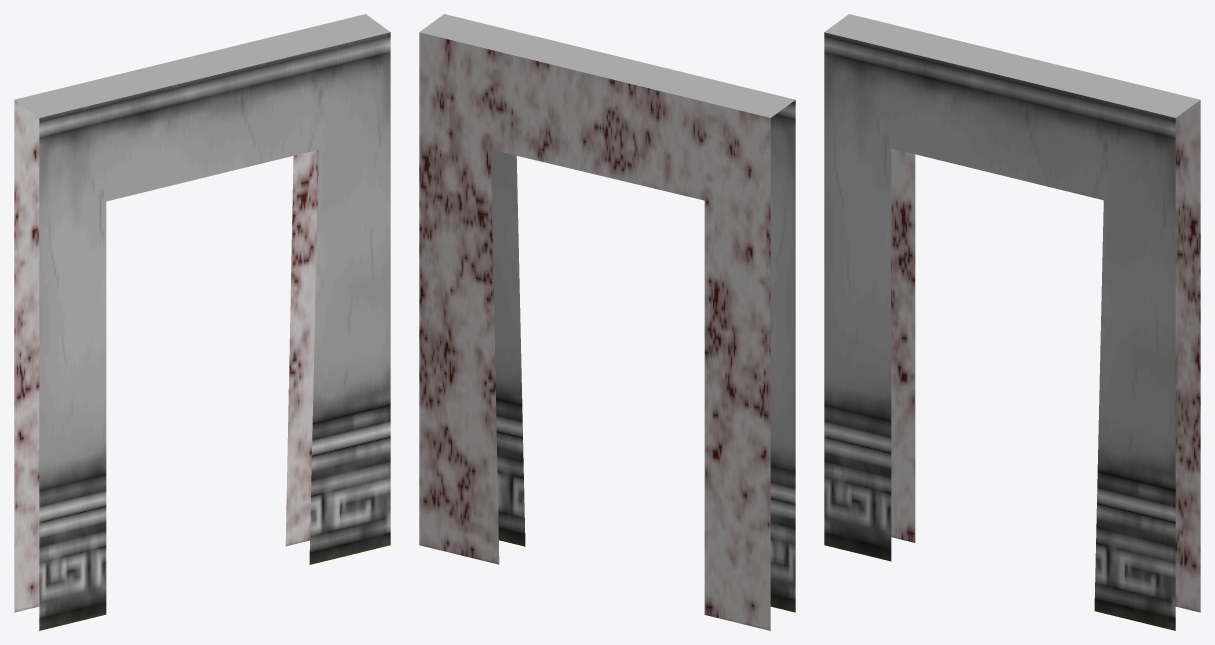
File: W_I3_o [Verziert2_180°-RotesMarmor]_199.glb
The picture shows the model from 3 angles, left to right: view 1: azimuth 30°, elevation 25°; view 2: azimuth 150°, elevation 25°; view 3: azimuth 330°, elevation 25°; orthographic projection.
Parts seen in each view (by area): view 1: pPlaneShape2, pPlaneShape3, pPlaneShape1; view 2: pPlaneShape3, pPlaneShape2, pPlaneShape1; view 3: pPlaneShape2, pPlaneShape3, pPlaneShape1.
Boxes of the visible parts, left/top/right/bottom form: pPlaneShape2: left=39, top=32, right=390, bottom=630; pPlaneShape3: left=14, top=100, right=318, bottom=612; pPlaneShape1: left=14, top=14, right=390, bottom=117; pPlaneShape3: left=419, top=32, right=770, bottom=630; pPlaneShape2: left=491, top=100, right=795, bottom=612; pPlaneShape1: left=419, top=14, right=795, bottom=117; pPlaneShape2: left=824, top=32, right=1175, bottom=630; pPlaneShape3: left=891, top=100, right=1200, bottom=612; pPlaneShape1: left=824, top=14, right=1200, bottom=117.
Bounding box in the file's own units: 0.25 × 0.3486 × 0.0308.
3 materials, 2 textured.
